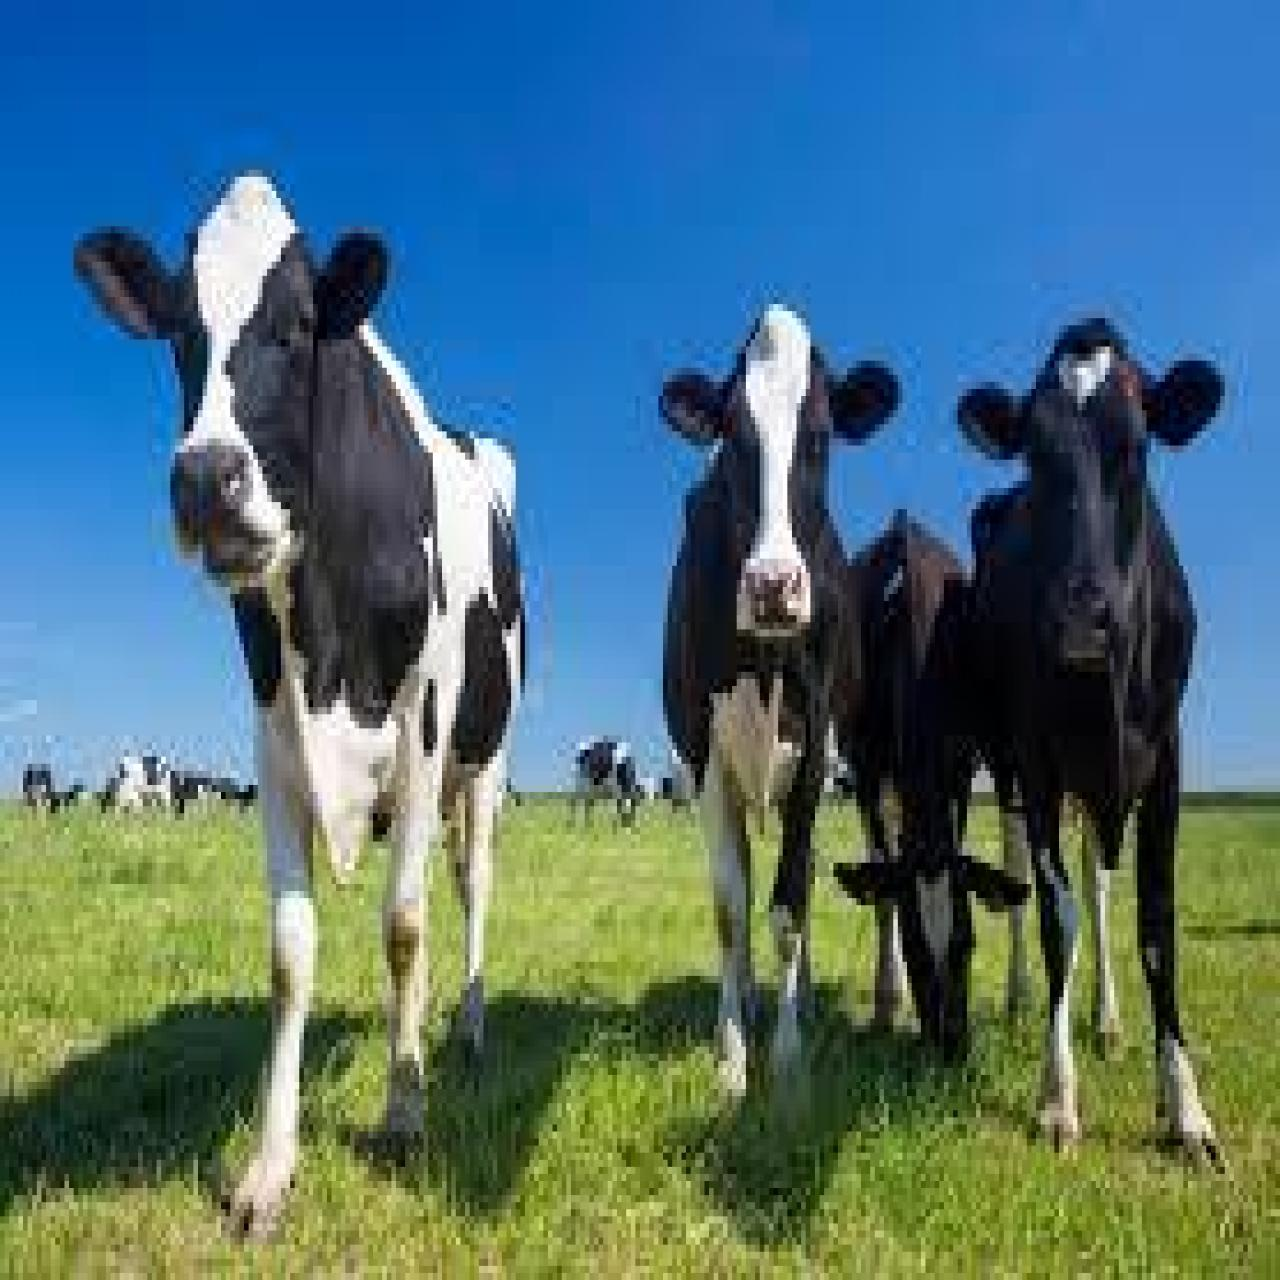cow: (67, 166, 523, 1241), (953, 321, 1230, 1170), (654, 304, 903, 1117), (836, 498, 983, 1071), (568, 729, 647, 828)
